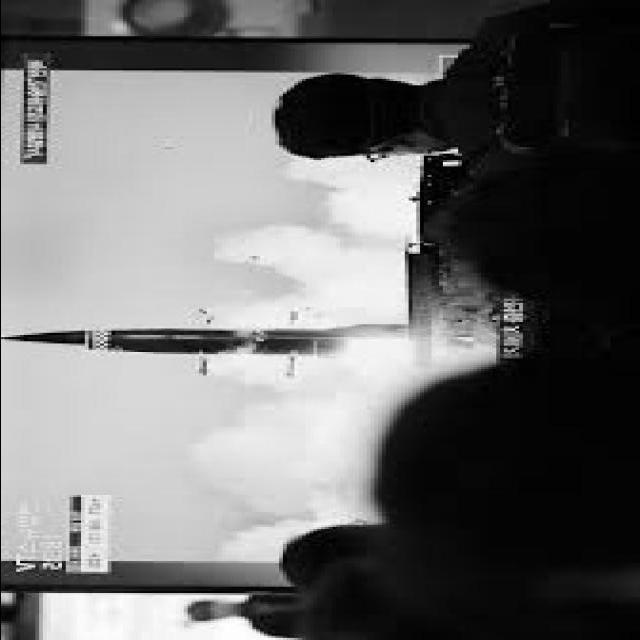Missile: (2, 322, 359, 366)
